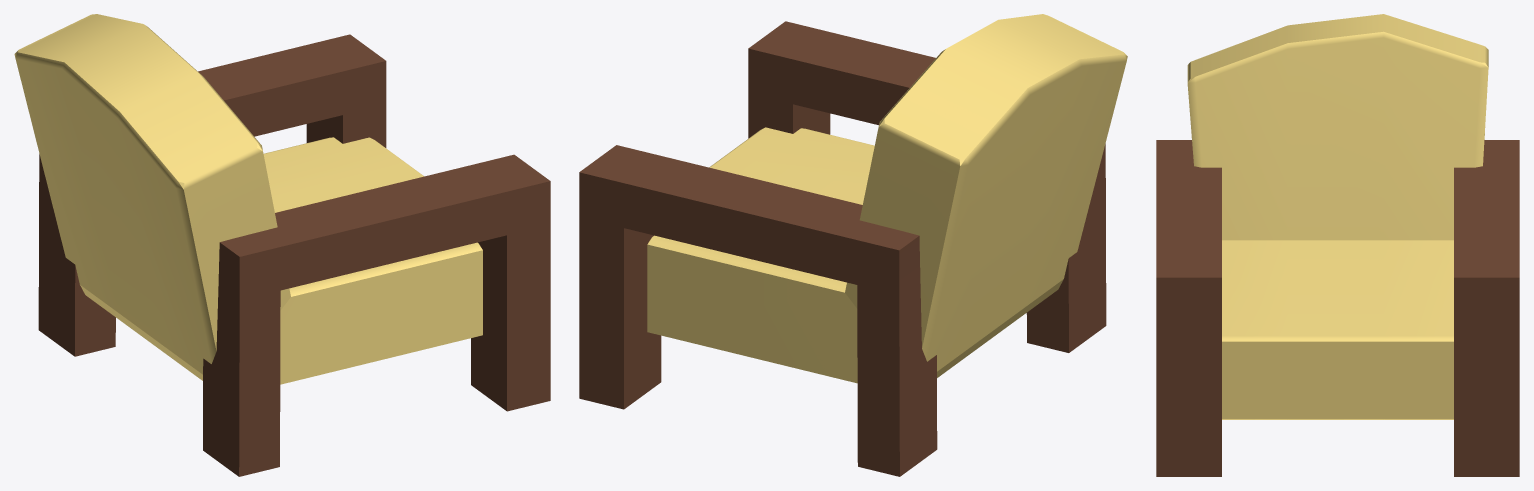
File: couch.fbx
The picture shows the model from 3 angles, left to right: view 1: azimuth 30°, elevation 25°; view 2: azimuth 150°, elevation 25°; view 3: azimuth 270°, elevation 25°; orthographic projection. The views are drawn at different scales.
Parts seen in each view (by area): view 1: polySurface3; view 2: polySurface3; view 3: polySurface3.
Boxes of the visible parts, box(x1,y1,x2,y2) form: polySurface3: box(14, 14, 550, 476); polySurface3: box(579, 14, 1127, 476); polySurface3: box(1156, 14, 1519, 476).
Bounding box in the file's own units: 4.26 × 3.97 × 4.08.
